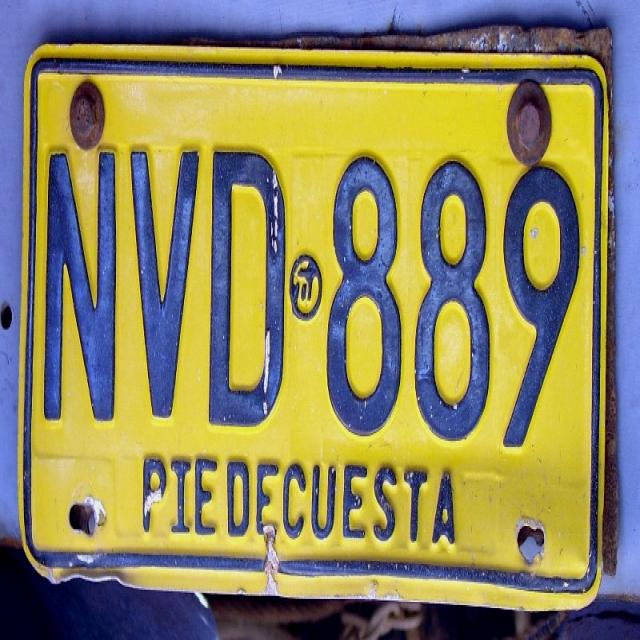placa: (12, 25, 619, 618)
